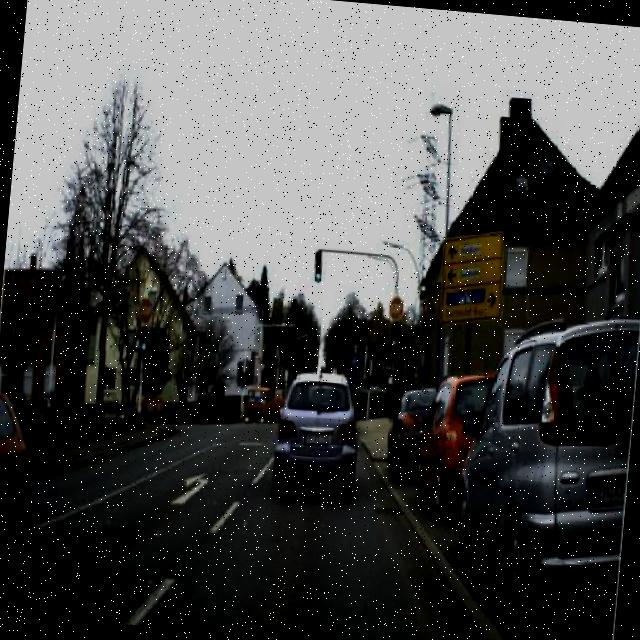Stop: (134, 294, 155, 326), (386, 293, 404, 323)
